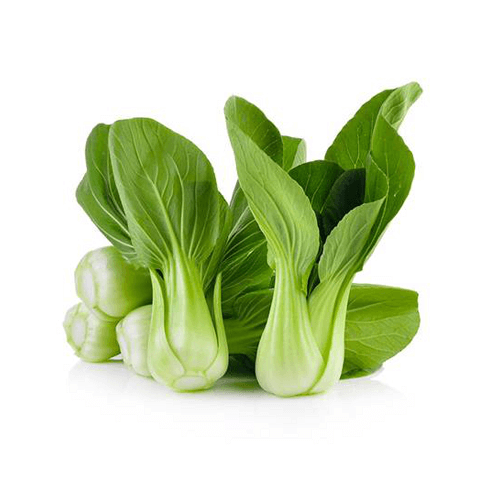Sawi: (92, 80, 453, 438)
